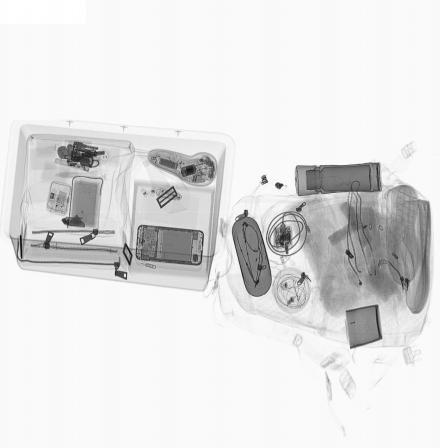Lighter: (67, 146, 100, 165)
